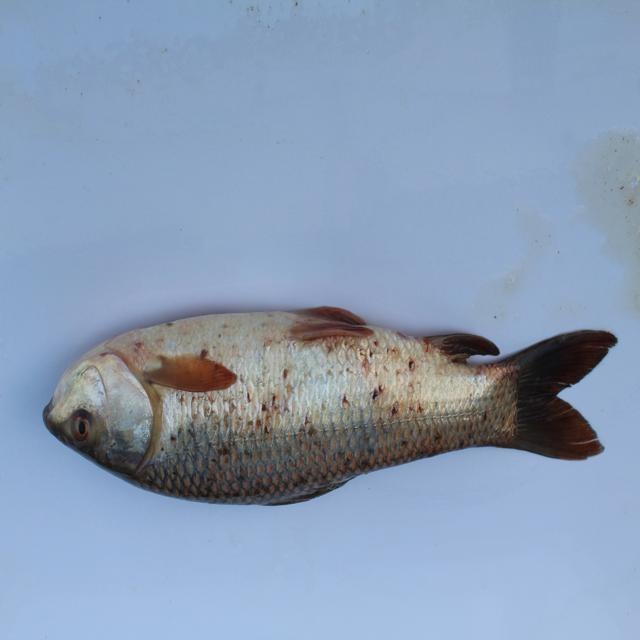Rohu: (38, 291, 624, 500)
